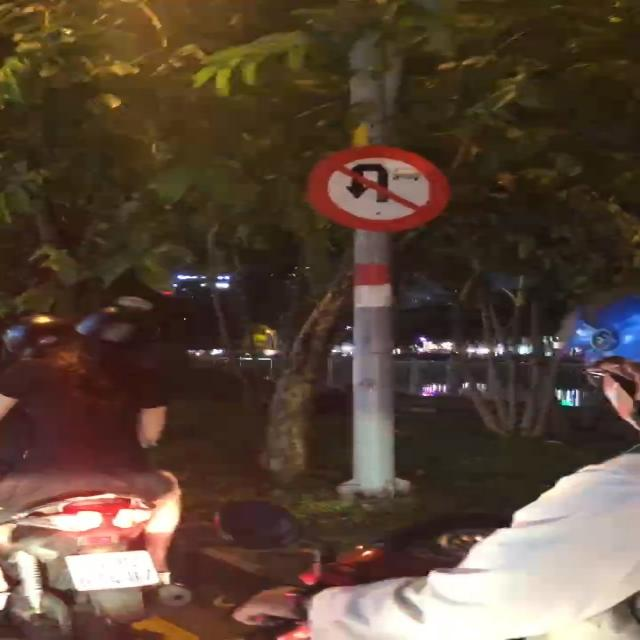Bien bao cam quay dau xe: (296, 140, 451, 235)
